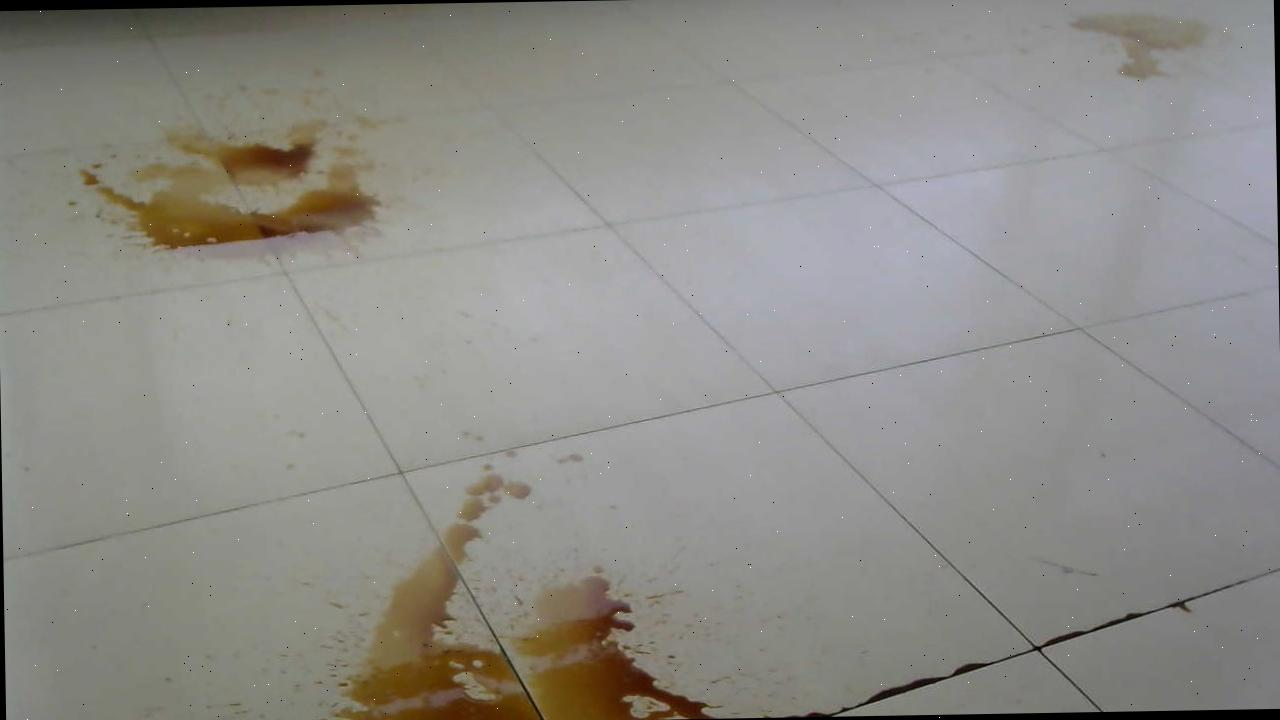dirty_floor: (308, 458, 744, 718), (33, 70, 388, 260)
